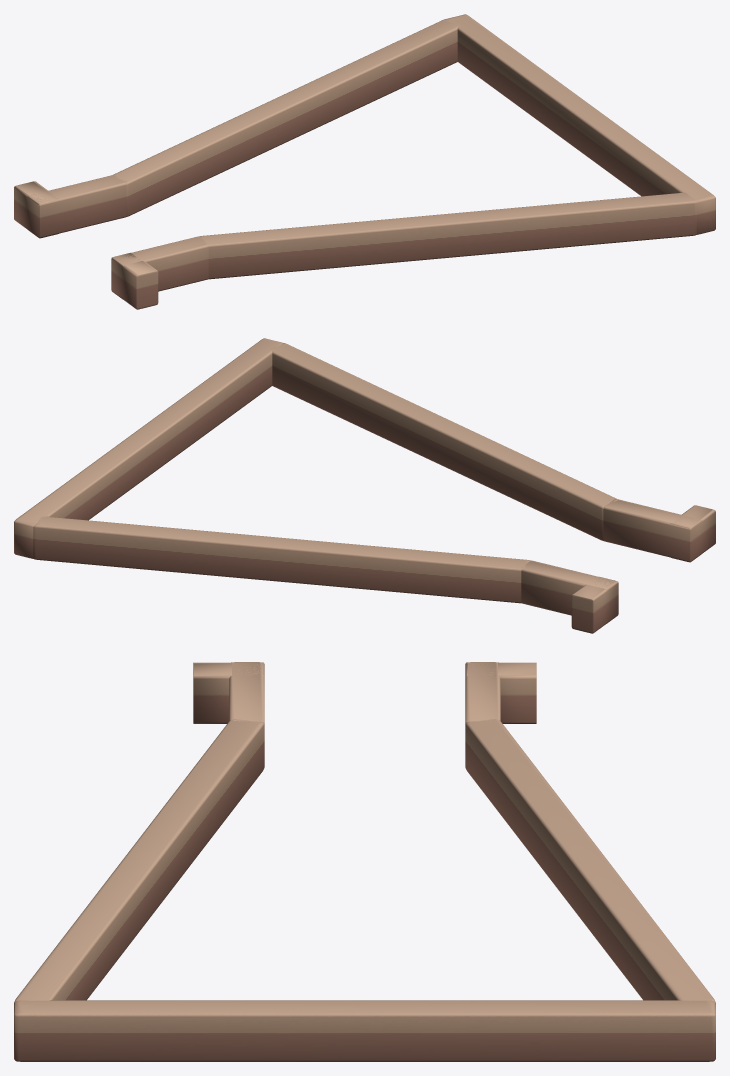
File: Props.fbx
The picture shows the model from 3 angles, top to bottom: view 1: azimuth 30°, elevation 25°; view 2: azimuth 150°, elevation 25°; view 3: azimuth 270°, elevation 25°; orthographic projection. The views are drawn at different scales.
Visible parts, largest first — view 1: Box20-3_1 (3), Box20-3_1 (4), Box20-3_1 (5), Box20-3_1 (7), Box20-3_1 (6), Box20-3_1 (8), Box20-3_1 (9); view 2: Box20-3_1 (4), Box20-3_1 (3), Box20-3_1 (5), Box20-3_1 (6), Box20-3_1 (7), Box20-3_1 (9), Box20-3_1 (8); view 3: Box20-3_1 (5), Box20-3_1 (4), Box20-3_1 (3), Box20-3_1 (8), Box20-3_1 (9), Box20-3_1 (6), Box20-3_1 (7).
Boxes of the visible parts, <box> form: Box20-3_1 (3): <box>199,192,696,279</box>; Box20-3_1 (4): <box>112,19,459,216</box>; Box20-3_1 (5): <box>447,14,715,234</box>; Box20-3_1 (7): <box>27,175,126,238</box>; Box20-3_1 (6): <box>112,236,208,299</box>; Box20-3_1 (8): <box>111,252,158,309</box>; Box20-3_1 (9): <box>14,181,59,237</box>; Box20-3_1 (4): <box>33,516,530,603</box>; Box20-3_1 (3): <box>270,343,617,540</box>; Box20-3_1 (5): <box>14,338,282,558</box>; Box20-3_1 (6): <box>603,499,702,562</box>; Box20-3_1 (7): <box>521,560,617,623</box>; Box20-3_1 (9): <box>571,576,618,633</box>; Box20-3_1 (8): <box>670,505,715,561</box>; Box20-3_1 (5): <box>14,1000,715,1061</box>; Box20-3_1 (4): <box>465,719,715,1002</box>; Box20-3_1 (3): <box>14,719,264,1002</box>; Box20-3_1 (8): <box>193,662,263,723</box>; Box20-3_1 (9): <box>466,662,536,723</box>; Box20-3_1 (6): <box>229,662,264,722</box>; Box20-3_1 (7): <box>465,662,500,722</box>.
Size of the model in its own units: 23.55 by 1.5 by 19.8.
